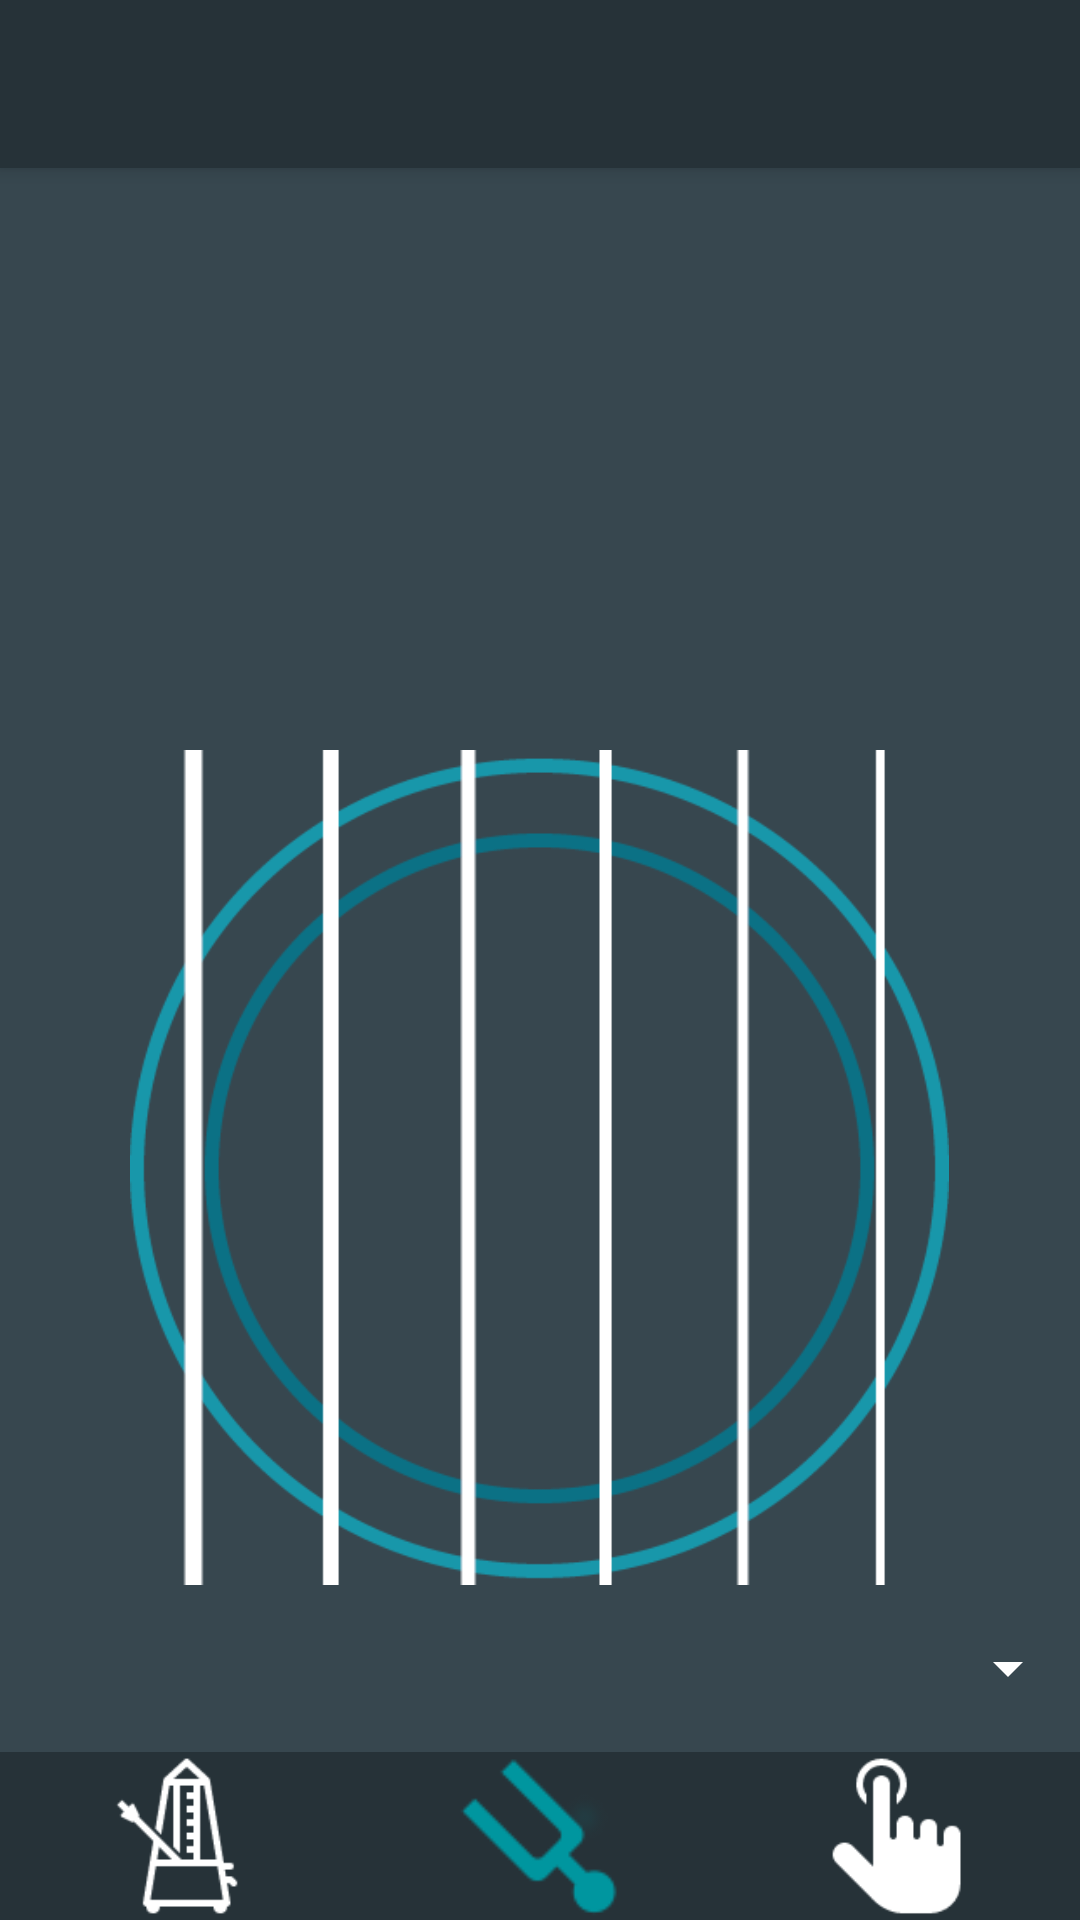

Where icons sit on this 1080px×1920px app screen, as Rect(x1, y1, x2, y2):
metronome: Rect(117, 1758, 238, 1914)
tuning fork: Rect(463, 1760, 616, 1913)
